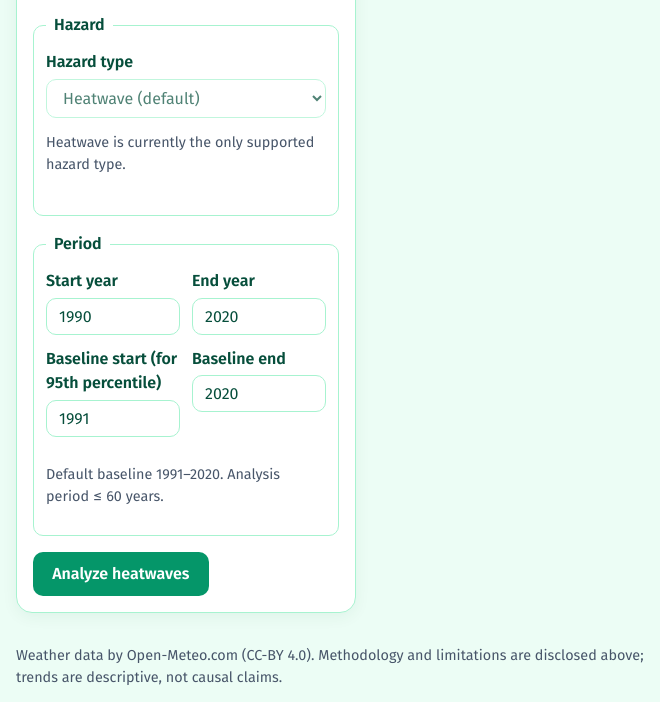
AnalyzerPage › prevents duplicate submissions while loading
This screenshot has width=660, height=702.
(page scrolled)
Click the button "Analyze heatwaves" at (121, 574), box [33,552,209,596]
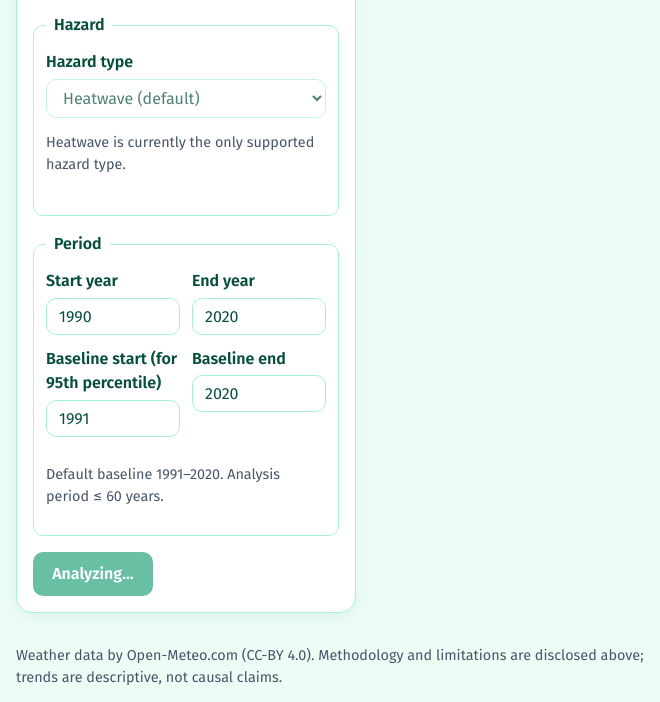
Expected: the button named "analyze heatwaves" is disabled, [33,552,153,596]
